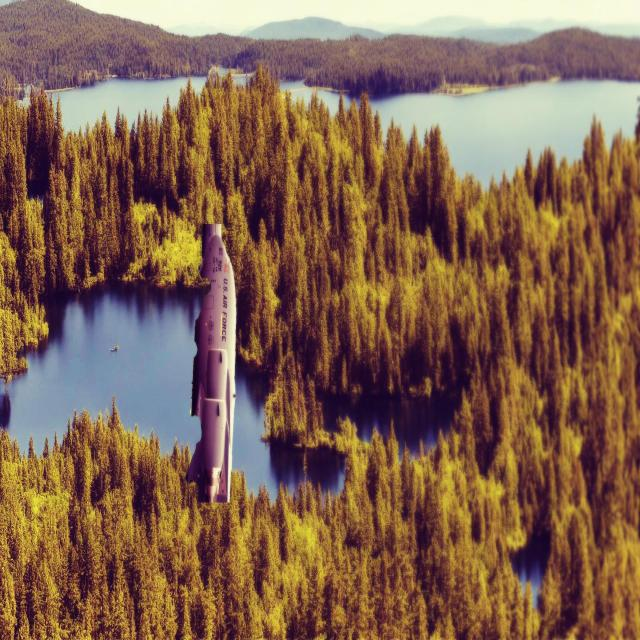airplane: (185, 222, 237, 503)
